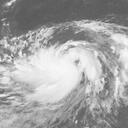cyclone: (17, 41, 78, 105)
